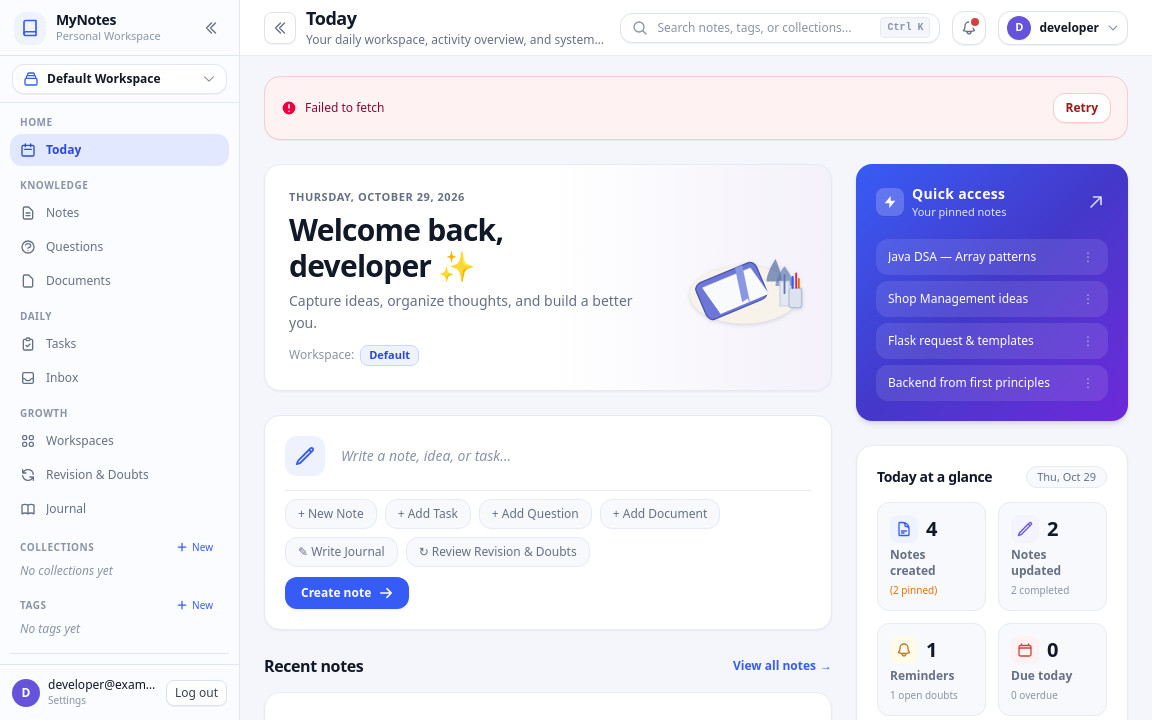
Test: Stage 4: Responsive Application Shell & Navigation › 11. Logout Control in Application Shell › displays honest error alert when server logout fails, preserving auth
Expected: the heading "Today" is shown, x1=306 y1=6 x2=357 y2=30
Click the button with aria-label "log out of mynotes" at x=196, y=692, box x1=166 y1=680 x2=227 y2=706
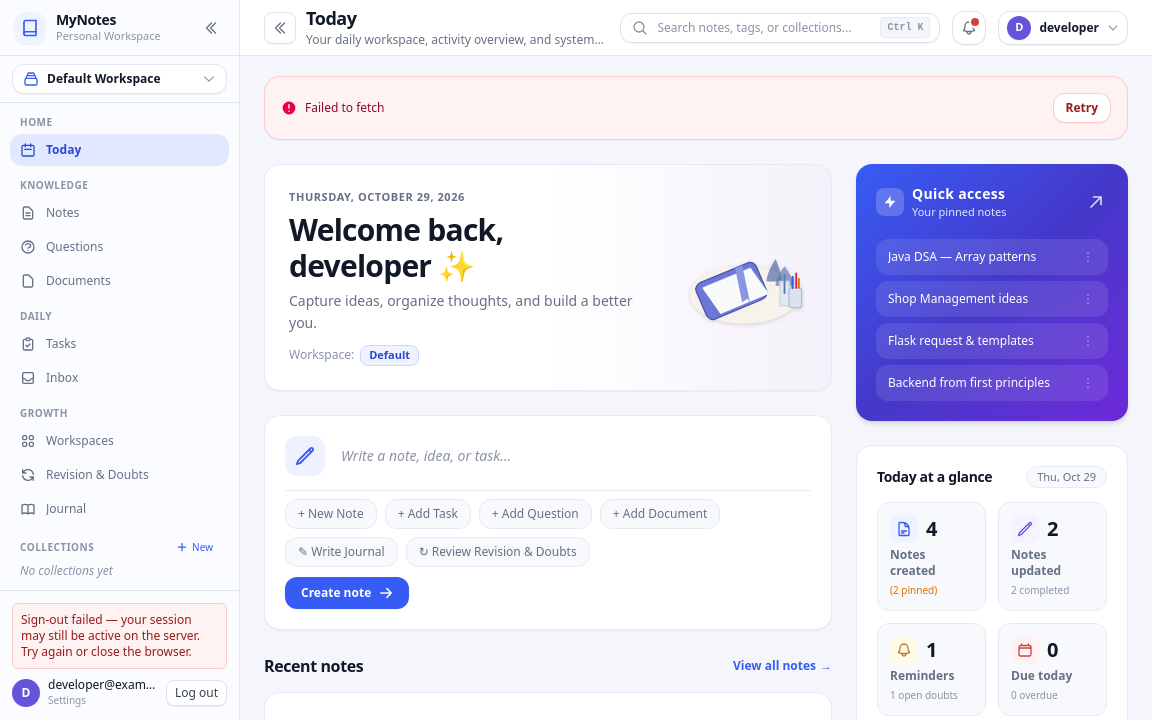
Expected: the heading "Today" is shown, x1=306 y1=6 x2=357 y2=30
Expected: the 2nd message is shown, x1=12 y1=603 x2=227 y2=669
Expected: the text "Sign-out failed" is shown, x1=21 y1=611 x2=200 y2=660
